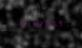four: (31, 20, 37, 28)
nine: (17, 21, 23, 28), (59, 19, 65, 26)
one: (24, 20, 30, 28)
six: (45, 19, 51, 27)
two: (38, 20, 44, 27)
zero: (52, 19, 58, 27)
